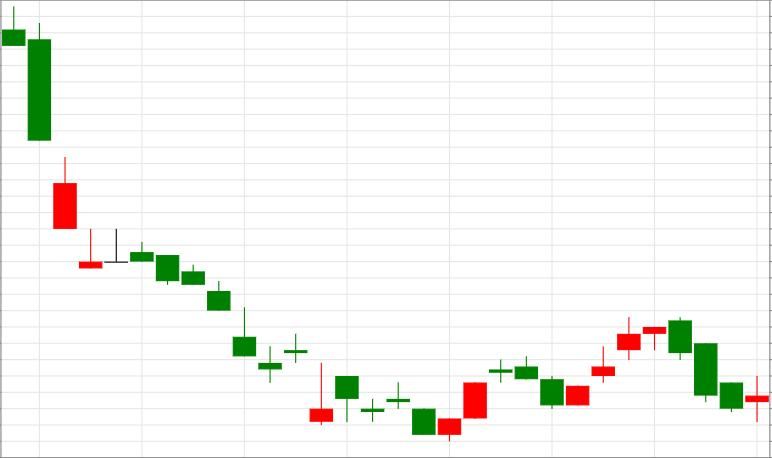bearish_engulfing_fall: (566, 316, 692, 406)
inverse_hammer_rise: (130, 242, 333, 426)
